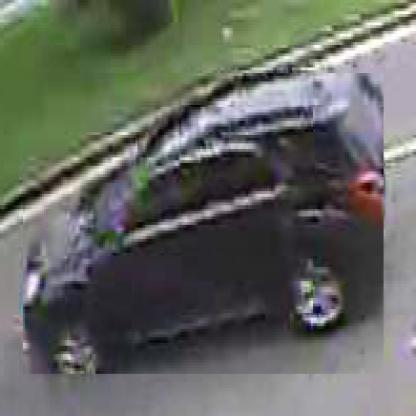car: (22, 74, 385, 378)
